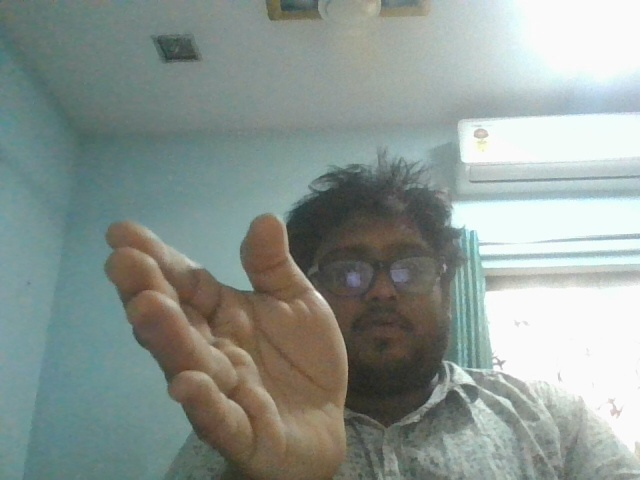RIGHT: (108, 195, 361, 473)
